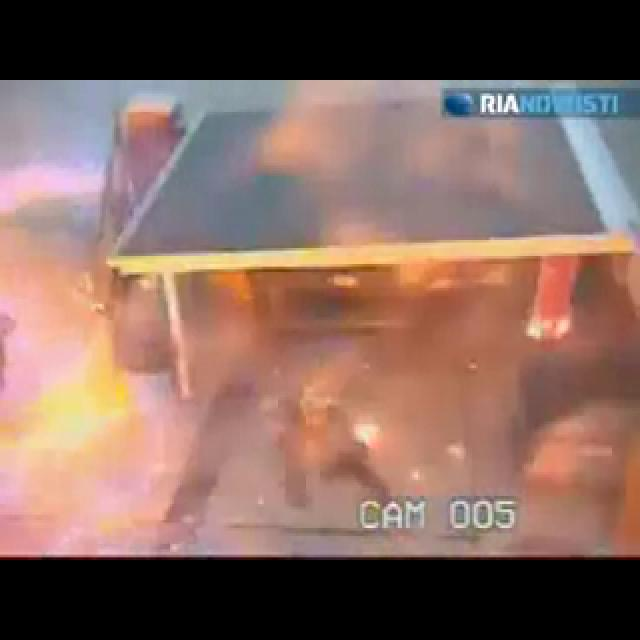explosion: (130, 44, 605, 521)
